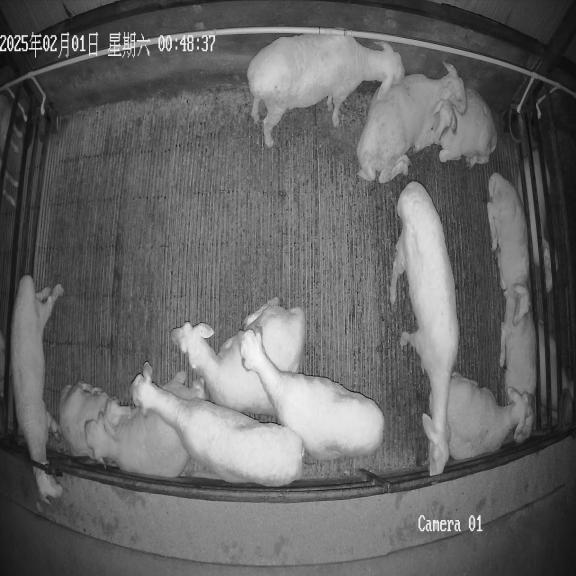eating: (11, 273, 65, 503)
lying: (131, 369, 303, 486), (240, 327, 384, 460), (357, 64, 467, 183), (171, 322, 275, 416), (84, 397, 189, 477), (447, 372, 524, 460), (487, 173, 529, 306), (500, 289, 536, 443), (439, 88, 497, 168), (251, 298, 305, 374), (58, 382, 110, 457), (162, 378, 202, 395)
stand: (390, 182, 459, 476), (247, 34, 405, 147)
